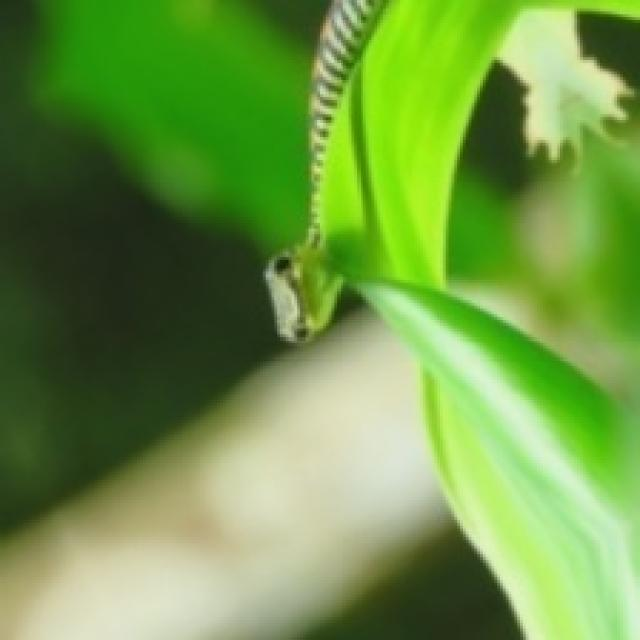paradise tree snake: (266, 0, 637, 337)
